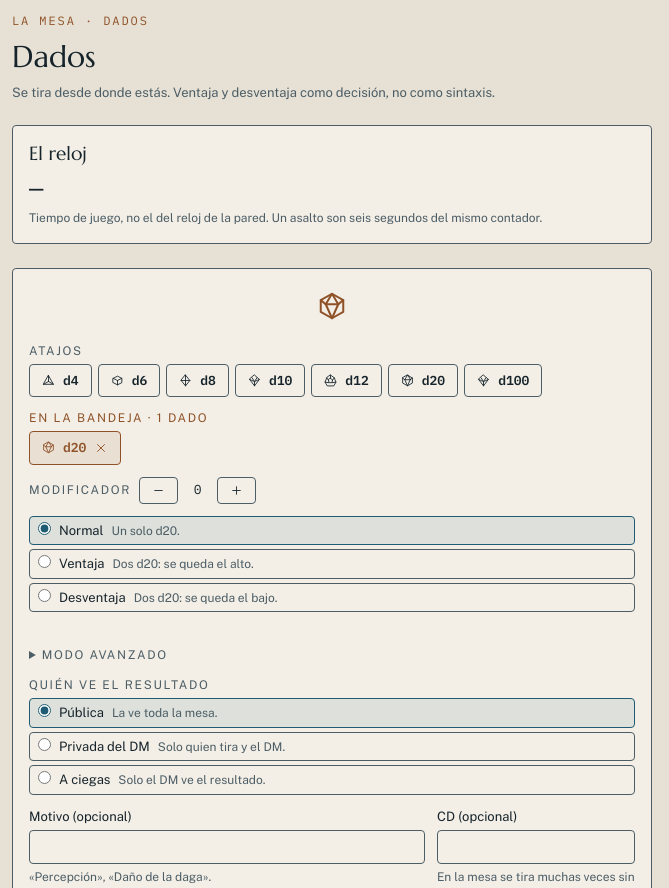
Scenario: PanelDeDados — Tirar con la bandeja vacía › sigue habilitado, explica en línea qué falta y no manda nada
Click the button named "Quitar el d20 (posición 1)": (75, 448) [29,431,121,465]
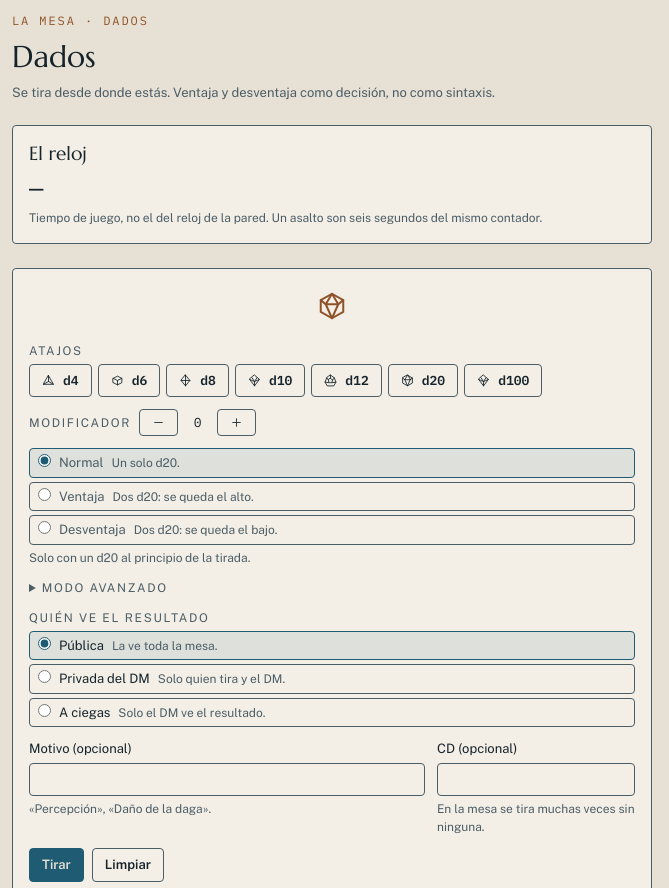
Click the button "Tirar": (56, 865) [29,848,84,882]
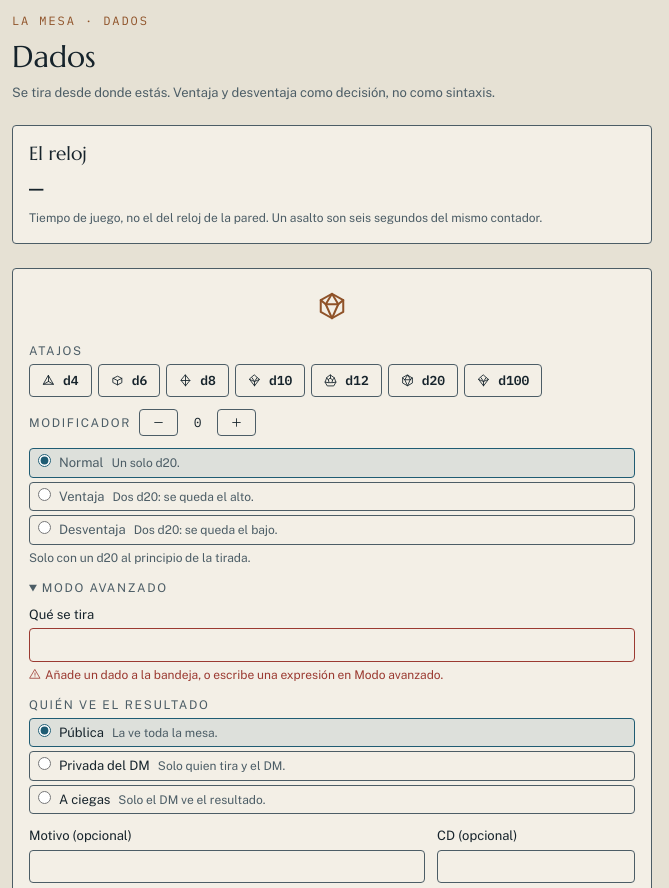
Expected: the message reads "Añade un dado a la bandeja, o escribe una expresión en Modo avanzado.", [45,668,443,682]
